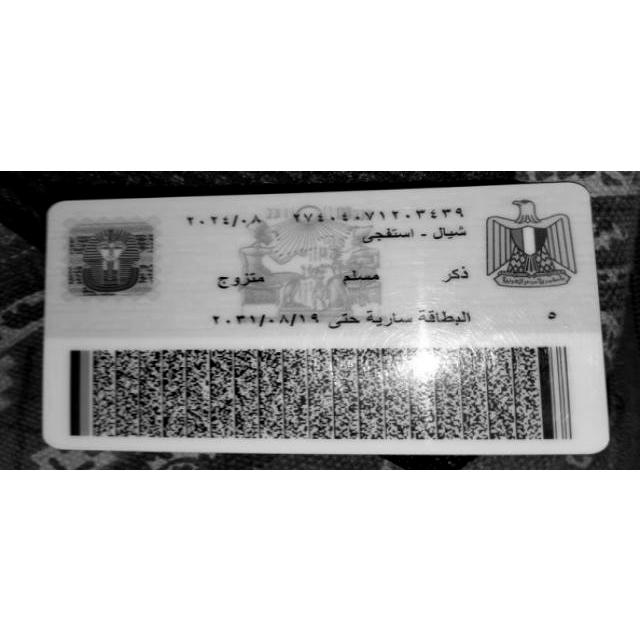id_card: (42, 182, 608, 452)
